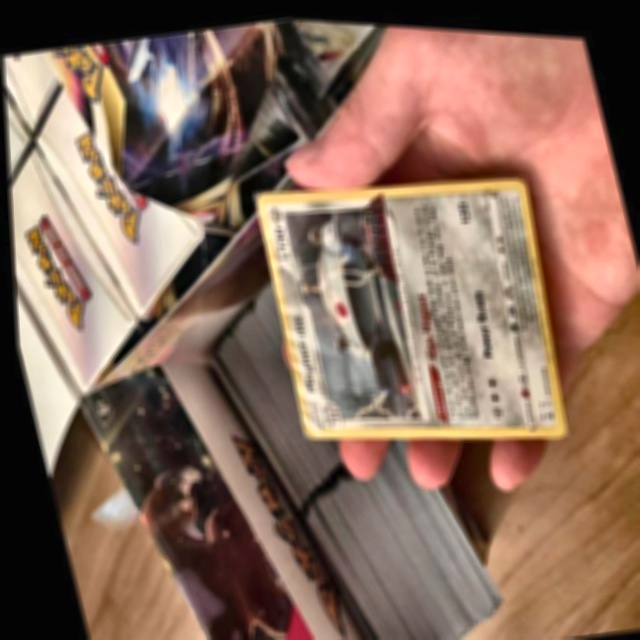card: (254, 172, 562, 436)
